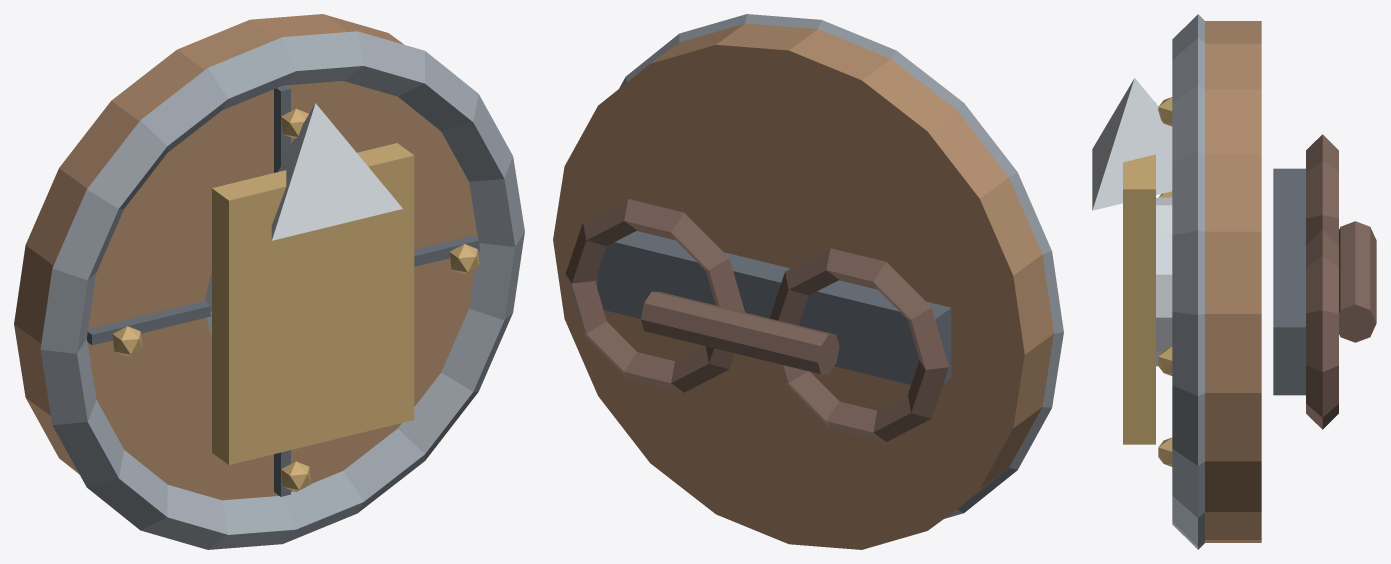
File: badge_shield.glb
The picture shows the model from 3 angles, left to right: view 1: azimuth 30°, elevation 25°; view 2: azimuth 150°, elevation 25°; view 3: azimuth 270°, elevation 25°; orthographic projection. The views are drawn at different scales.
Visible parts, largest first — view 1: ShieldBody.004, IronRim.003, HeraldicBadge, BadgeCrown, PlankSeam_1.003, PlankSeam_0.003, Rivet_1.029, Rivet_2.007, Rivet_0.029; view 2: ShieldBody.004, BackReinforcement.004, BackStrap_-0.004, BackStrap_0.004, HandGrip.004, IronRim.003; view 3: ShieldBody.004, IronRim.003, HeraldicBadge, BackReinforcement.004, BadgeCrown, BackStrap_0.004, HandGrip.004, BackStrap_-0.004, CentralBoss.004.
Part boxes in pixels (left/top/right/bottom): ShieldBody.004: left=14, top=14, right=477, bottom=500; IronRim.003: left=40, top=31, right=524, bottom=549; HeraldicBadge: left=212, top=143, right=414, bottom=464; BadgeCrown: left=271, top=103, right=402, bottom=240; PlankSeam_1.003: left=87, top=235, right=479, bottom=345; PlankSeam_0.003: left=274, top=85, right=290, bottom=496; Rivet_1.029: left=449, top=244, right=479, bottom=274; Rivet_2.007: left=281, top=461, right=311, bottom=491; Rivet_0.029: left=112, top=326, right=142, bottom=356; ShieldBody.004: left=553, top=23, right=1053, bottom=549; BackReinforcement.004: left=597, top=231, right=951, bottom=384; BackStrap_-0.004: left=769, top=248, right=948, bottom=441; BackStrap_0.004: left=565, top=199, right=744, bottom=392; HandGrip.004: left=641, top=291, right=839, bottom=374; IronRim.003: left=619, top=14, right=1063, bottom=518; ShieldBody.004: left=1205, top=21, right=1261, bottom=542; IronRim.003: left=1172, top=14, right=1204, bottom=549; HeraldicBadge: left=1123, top=102, right=1155, bottom=444; BackReinforcement.004: left=1273, top=168, right=1305, bottom=395; BadgeCrown: left=1092, top=78, right=1172, bottom=210; BackStrap_0.004: left=1306, top=229, right=1338, bottom=429; HandGrip.004: left=1339, top=221, right=1376, bottom=342; BackStrap_-0.004: left=1306, top=134, right=1338, bottom=245; CentralBoss.004: left=1156, top=197, right=1172, bottom=366.
Bounding box in the file's own units: 1.15 × 1.15 × 0.605.
